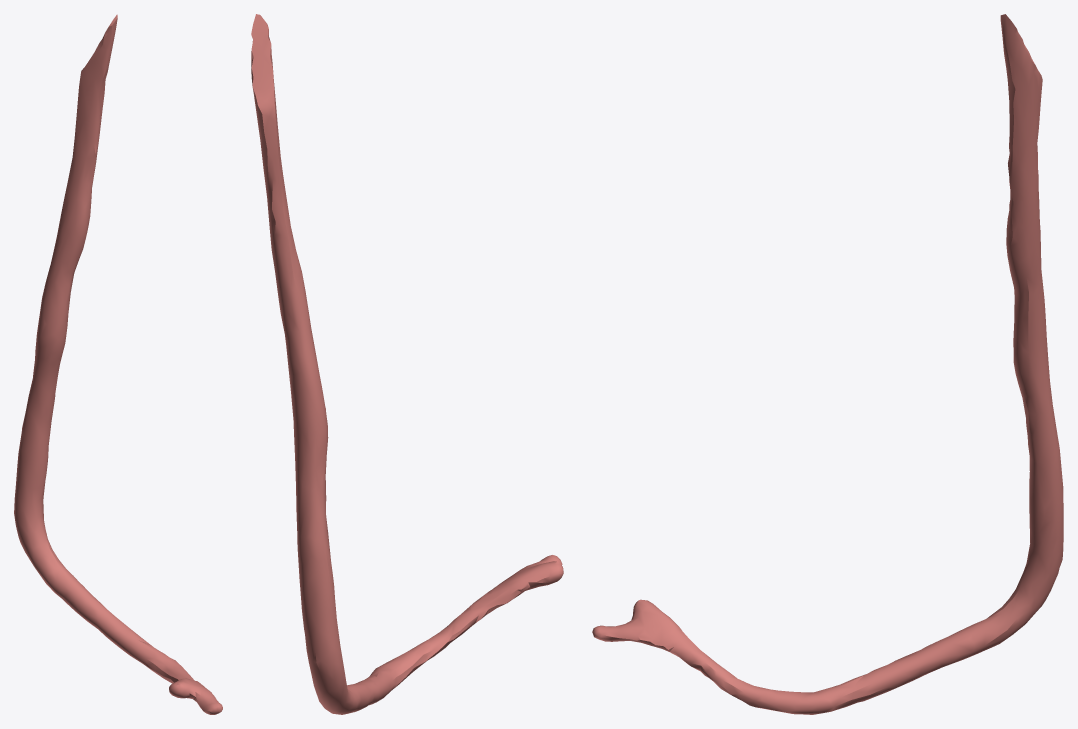
File: fma47112_mm1693.glb
The picture shows the model from 3 angles, left to right: view 1: azimuth 30°, elevation 25°; view 2: azimuth 150°, elevation 25°; view 3: azimuth 270°, elevation 25°; orthographic projection. The views are drawn at different scales.
Parts seen in each view (by area): view 1: FMA47112_MM1693; view 2: FMA47112_MM1693; view 3: FMA47112_MM1693.
Part boxes in pixels (x1=…): FMA47112_MM1693: x1=14, y1=14, x2=222, y2=714; FMA47112_MM1693: x1=251, y1=14, x2=563, y2=714; FMA47112_MM1693: x1=592, y1=14, x2=1063, y2=714.
Size of the model in its own units: 0.027 by 0.1568 by 0.0937.
